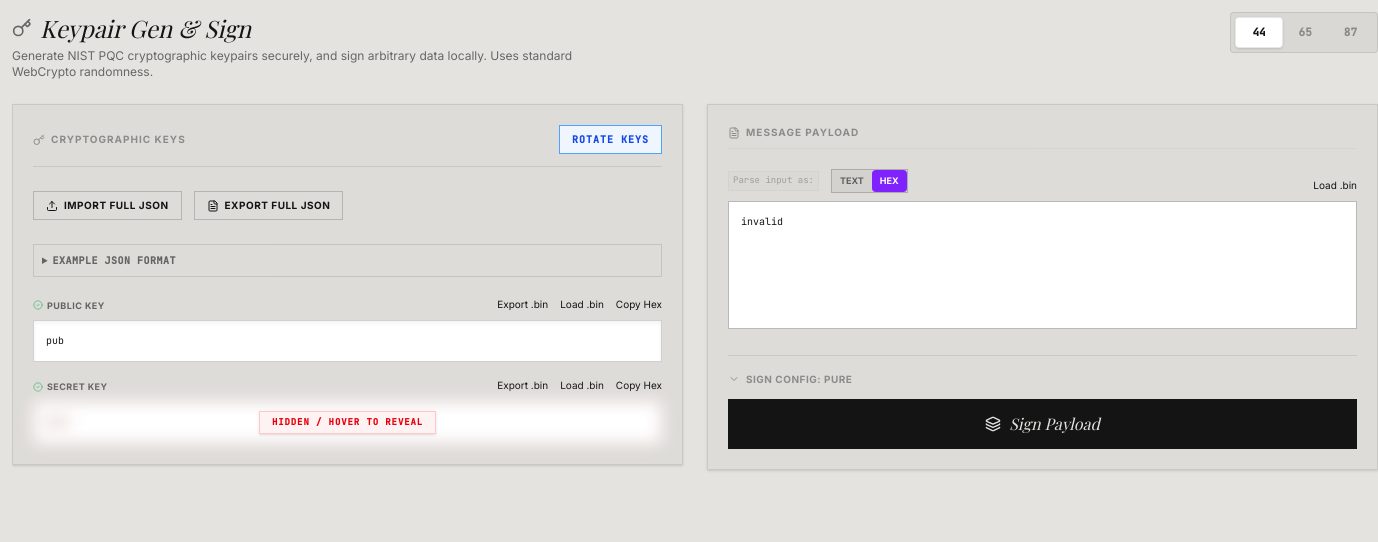
KeyAndSignTab › handles binary message input validation
Click the button "Sign Payload" at (1042, 424), box [728,398,1357,448]
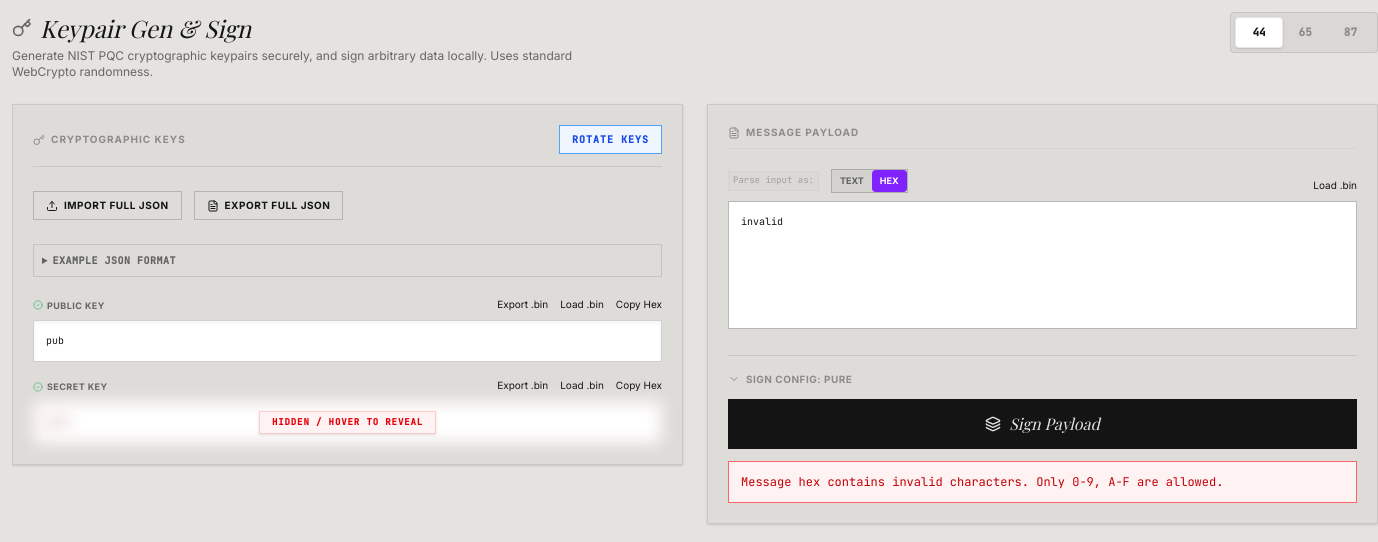
Result: the text "Message hex contains invalid characters" is shown at [741,474,1223,490]
